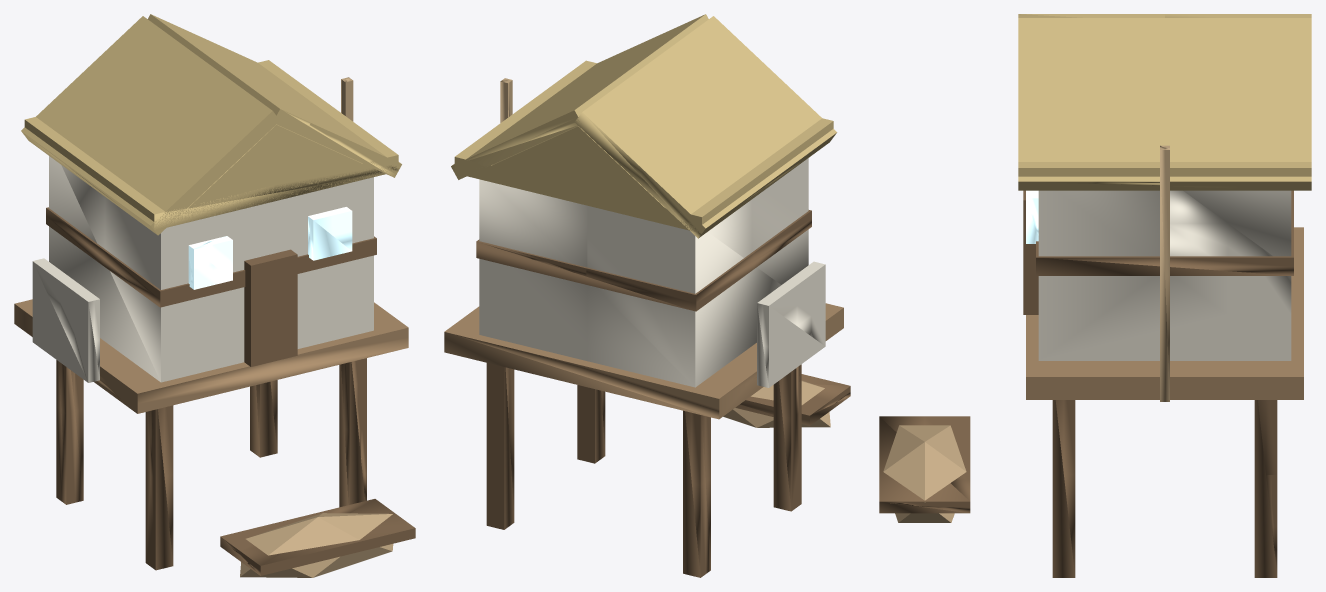
Rendered from fishery.glb.
3 views of the same model, side by side, from view 1: azimuth 30°, elevation 25°; view 2: azimuth 150°, elevation 25°; view 3: azimuth 270°, elevation 25° (orthographic). The views are drawn at different scales.
Visible parts, largest first — view 1: Pile-0.5-0.4; view 2: Pile-0.5-0.4; view 3: Pile-0.5-0.4.
Part boxes in pixels (box(x1,y1,x2,y2)): Pile-0.5-0.4: box(14, 14, 415, 577); Pile-0.5-0.4: box(444, 14, 850, 577); Pile-0.5-0.4: box(879, 14, 1311, 577).
Bounding box in the file's own units: 1.5 × 2.2 × 1.71.
